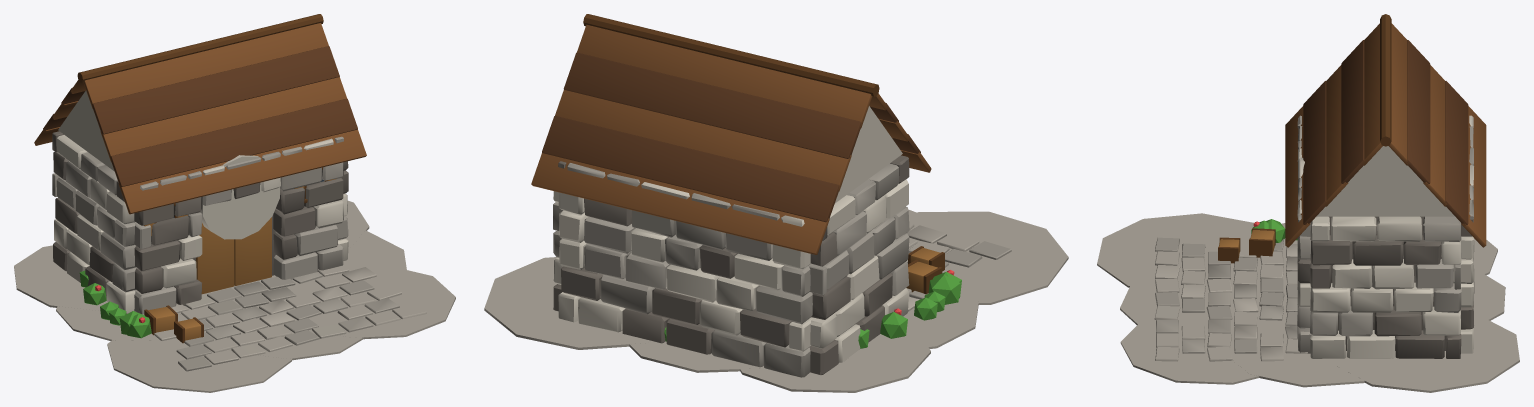
The model's file is magazyn_poz11.glb.
3 views of the same model, side by side, from view 1: azimuth 30°, elevation 25°; view 2: azimuth 150°, elevation 25°; view 3: azimuth 270°, elevation 25° (orthographic). The views are drawn at different scales.
Parts seen in each view (by area): view 1: magazyn_poz11; view 2: magazyn_poz11; view 3: magazyn_poz11.
Boxes of the visible parts, x1,y1,x2,y2 form: magazyn_poz11: (14,14,455,392); magazyn_poz11: (484,14,1068,392); magazyn_poz11: (1097,14,1519,392).
Bounding box in the file's own units: 8.86 × 5.46 × 8.91.
